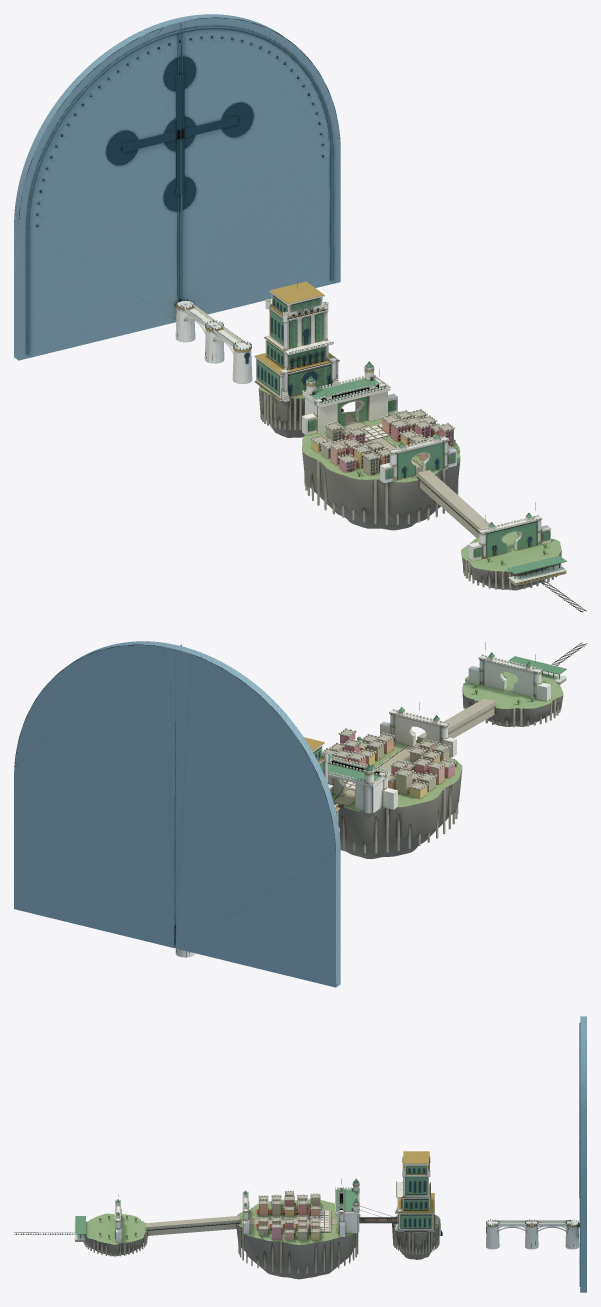
Rendered from enies-lobby.glb.
The picture shows the model from 3 angles, top to bottom: view 1: azimuth 30°, elevation 25°; view 2: azimuth 150°, elevation 25°; view 3: azimuth 270°, elevation 25°; orthographic projection. The views are drawn at different scales.
Visible parts, largest first — view 1: district-1--5, district-1-1, district-1-0, district-1-4, district-1--1, district-1--2, district-0-1, district-0-0, district-1-2, district-1-3, district-0--2, district-1-5 (+6 smaller); view 2: district-1--5, district-1-1, district-1-4, district-0-0, district-0-1, district-1-2, district-1-0, district-1-3, district-0-4, district-1-5; view 3: district-1-1, district-1--2, district-1--5, district-1-4, district-1-0, district-1-3, district-1--1, district-0-1, district-1--4, district-1--3, district-2-1, district-1-2 (+2 smaller).
Part boxes in pixels (left/top/right/bottom): district-1--5: left=14, top=14, right=340, bottom=360; district-1-1: left=26, top=26, right=561, bottom=590; district-1-0: left=302, top=361, right=415, bottom=441; district-1-4: left=461, top=502, right=561, bottom=572; district-1--1: left=284, top=298, right=343, bottom=430; district-1--2: left=254, top=281, right=339, bottom=401; district-0-1: left=311, top=426, right=390, bottom=520; district-0-0: left=302, top=375, right=351, bottom=495; district-1-2: left=393, top=429, right=457, bottom=523; district-1-3: left=417, top=470, right=489, bottom=537; district-0--2: left=257, top=295, right=287, bottom=423; district-1-5: left=507, top=549, right=566, bottom=592; district-1--5: left=14, top=641, right=340, bottom=987; district-1-1: left=330, top=680, right=563, bottom=859; district-1-4: left=462, top=642, right=563, bottom=726; district-0-0: left=355, top=756, right=429, bottom=853; district-0-1: left=390, top=740, right=458, bottom=838; district-1-2: left=367, top=702, right=448, bottom=751; district-1-0: left=322, top=753, right=398, bottom=852; district-1-3: left=417, top=698, right=496, bottom=742; district-0-4: left=512, top=654, right=560, bottom=726; district-1-5: left=502, top=656, right=566, bottom=684; district-1-1: left=86, top=1023, right=580, bottom=1279; district-1--2: left=393, top=1151, right=442, bottom=1254; district-1--5: left=565, top=1016, right=586, bottom=1292; district-1-4: left=86, top=1202, right=147, bottom=1256; district-1-0: left=310, top=1189, right=363, bottom=1268; district-1-3: left=146, top=1215, right=239, bottom=1235; district-1--1: left=359, top=1165, right=415, bottom=1254; district-0-1: left=259, top=1190, right=311, bottom=1215; district-1--4: left=525, top=1219, right=571, bottom=1249; district-1--3: left=485, top=1219, right=531, bottom=1249; district-2-1: left=260, top=1224, right=311, bottom=1273; district-1-2: left=238, top=1194, right=260, bottom=1268.
Size of the model in its own units: 320 by 322 by 705.
Materials: 1 (1 with a texture image).
